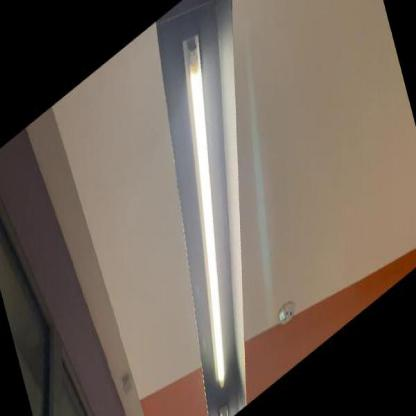light_on: (130, 12, 286, 404)
